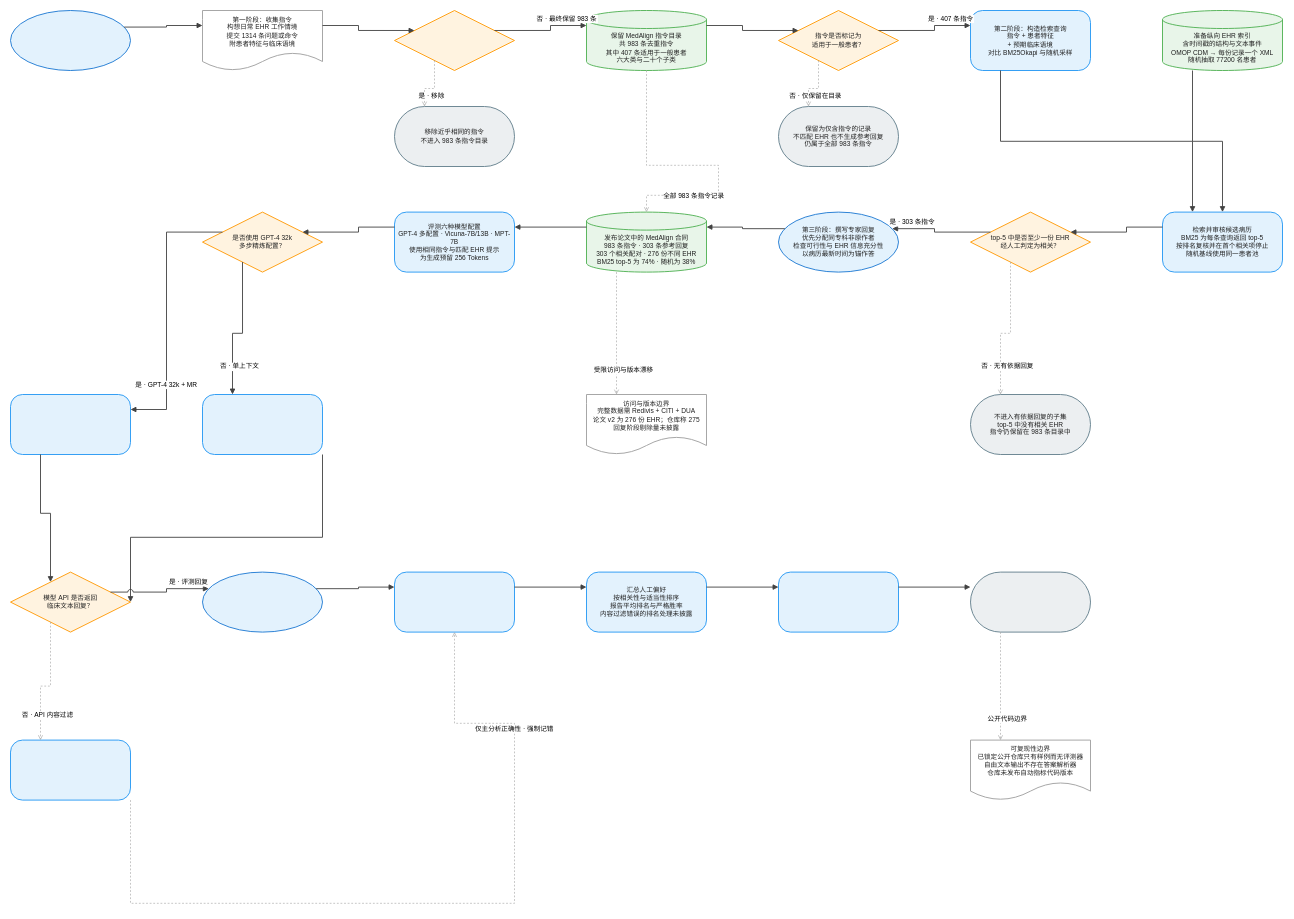
This 1294x919 diagram has some shape labels left out. The centre of each missing label's shape, as x and y in pixels:
"九名临床医生盲法评测 向医生展示完整且未截断的 EHR 不评自己提交的指令或回复 随机模型顺序并允许并列 其中 50 个配对由三人复核" goes at point 262,601.
"保留内容过滤错误结果 44 题影响至少一个 GPT-4 配置 主分析正确性：失败输出记错 补充分析排除后为 259 题 主表 303 题的排名处理未披露" goes at point 70,769.
"发布 MedAlign 评测结果 正确率 · 平均排名 · 两两胜率 指标排名与人工排名的平均 Kendall Tau 分析模型与上下文长度影响" goes at point 1030,601.
"执行多步精炼 将完整 EHR 切为 30k-token 块 从最早到最新依次处理 更新或保留上一版回复" goes at point 70,424.
"是否存在 ROUGE-L 相似度 高于 0.7 的近重复指令？" goes at point 454,40.
"构造单上下文提示 扣除提示、指令与 256 Tokens 从病历开头截断 尽量保留最近的 EHR 内容" goes at point 262,424.
"计算自动文本生成指标 无源指标只使用标准参考回复 COMET 与 UniEval 另用 BM25 EHR 片段 将指标得分转换为模型排名" goes at point 838,601.
"记录二元临床正确性 临床不当、改变解释的错误 或未回答指令 → 错误 主分母为每种配置 303 个配对" goes at point 454,601.
"通过邮件招募临床指令作者 共 15 名执业临床医生 覆盖 7 个医学专科 通过在线表单提交" goes at point 70,40.
